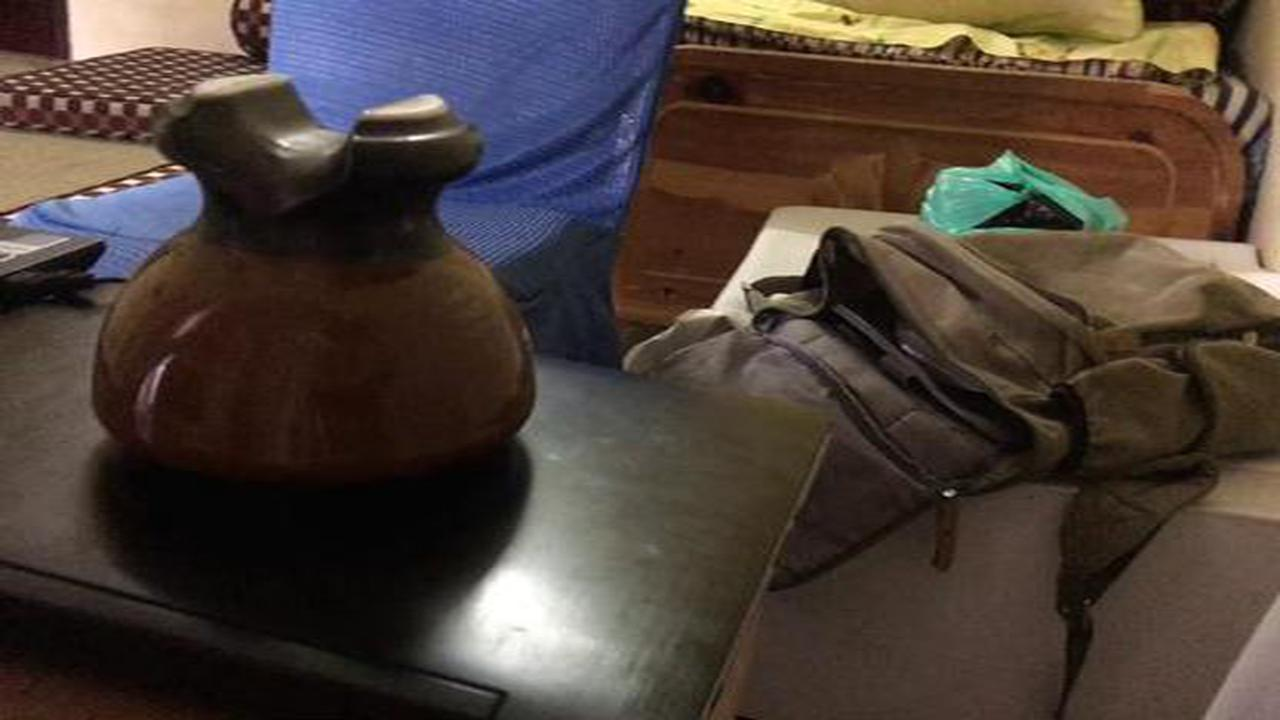insulator_pin: (82, 68, 557, 502)
